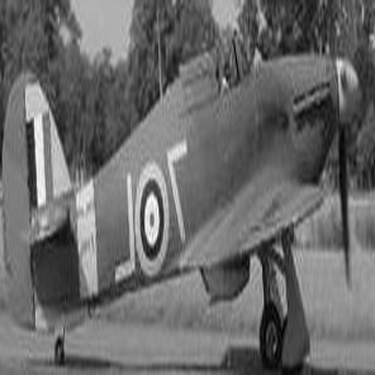airplane: (4, 3, 369, 371)
